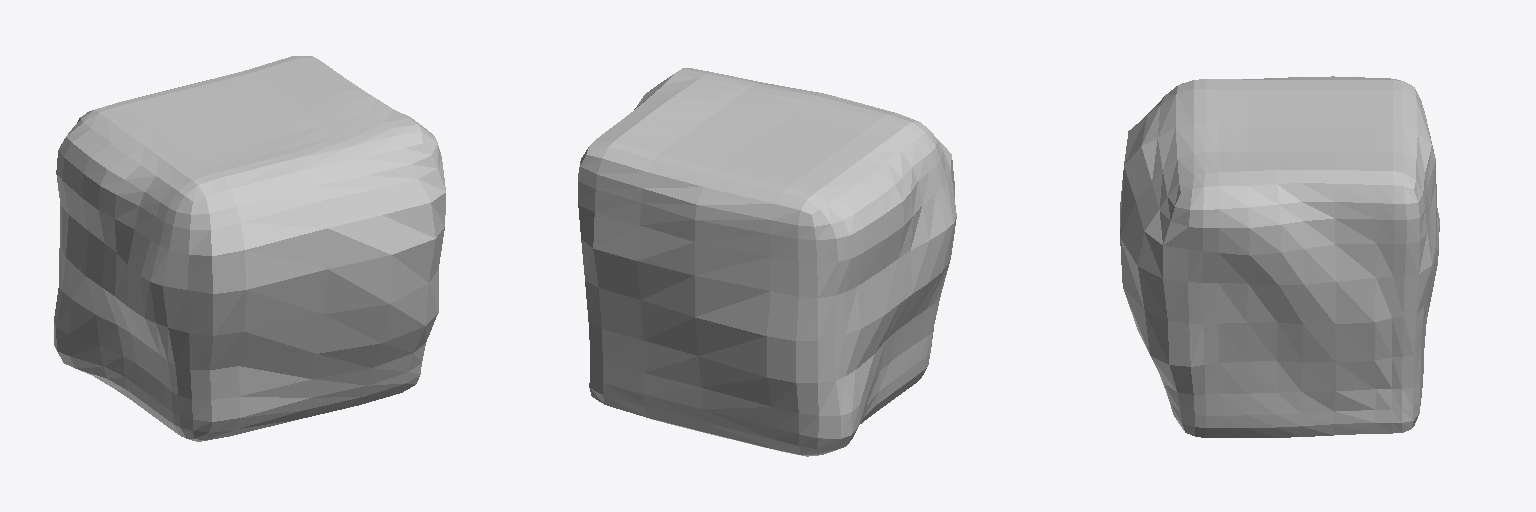
Rendered from PM3D_rock016_003.OBJ.
3 views of the same model, side by side, from view 1: azimuth 30°, elevation 25°; view 2: azimuth 150°, elevation 25°; view 3: azimuth 270°, elevation 25° (orthographic).
Parts seen in each view (by area): view 1: Group38998; view 2: Group38998; view 3: Group38998.
Part boxes in pixels (x1,y1,x2,y2): Group38998: (54, 56, 445, 441); Group38998: (578, 68, 956, 456); Group38998: (1120, 76, 1439, 437).
Bounding box in the file's own units: 1875 × 1632 × 1768.